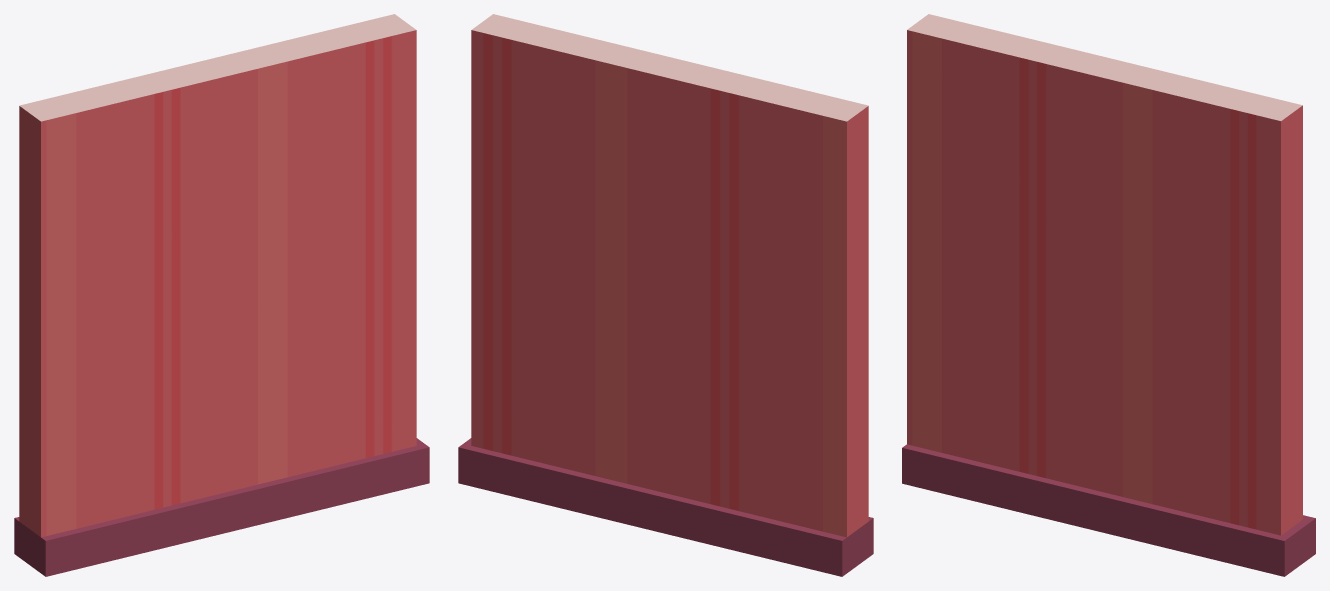
The model's file is Map_bs_Wallside3_geo.fbx.
3 renders of one model, left to right at view 1: azimuth 30°, elevation 25°; view 2: azimuth 150°, elevation 25°; view 3: azimuth 330°, elevation 25°, orthographic.
Visible parts, largest first — view 1: Map_bs_Wallside3_geo; view 2: Map_bs_Wallside3_geo; view 3: Map_bs_Wallside3_geo.
Boxes of the visible parts, x1=… form: Map_bs_Wallside3_geo: x1=14, y1=14, x2=429, y2=576; Map_bs_Wallside3_geo: x1=458, y1=14, x2=873, y2=576; Map_bs_Wallside3_geo: x1=902, y1=14, x2=1315, y2=576.
Size of the model in its own units: 1.81 by 0.2564 by 2.04.
